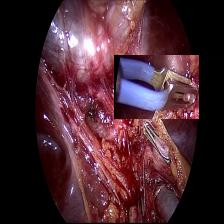Bipolar: (114, 55, 199, 119)
